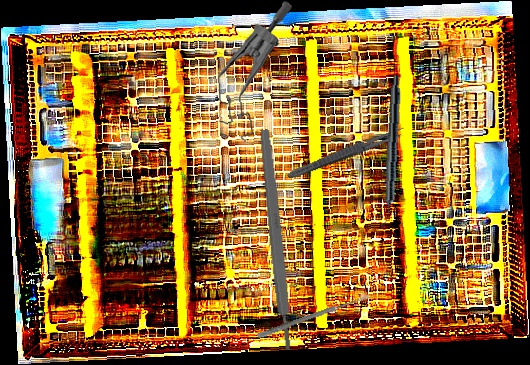Dressing Forceps: (285, 123, 407, 183)
Handpiece: (379, 74, 403, 230)
Scalpel Handle: (257, 128, 295, 352)
Speculum: (211, 0, 300, 145)
Surgical Spoon: (256, 292, 373, 340)
